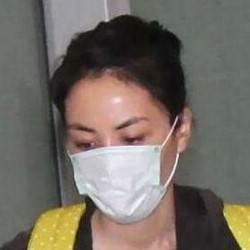mask: (68, 121, 180, 223)
